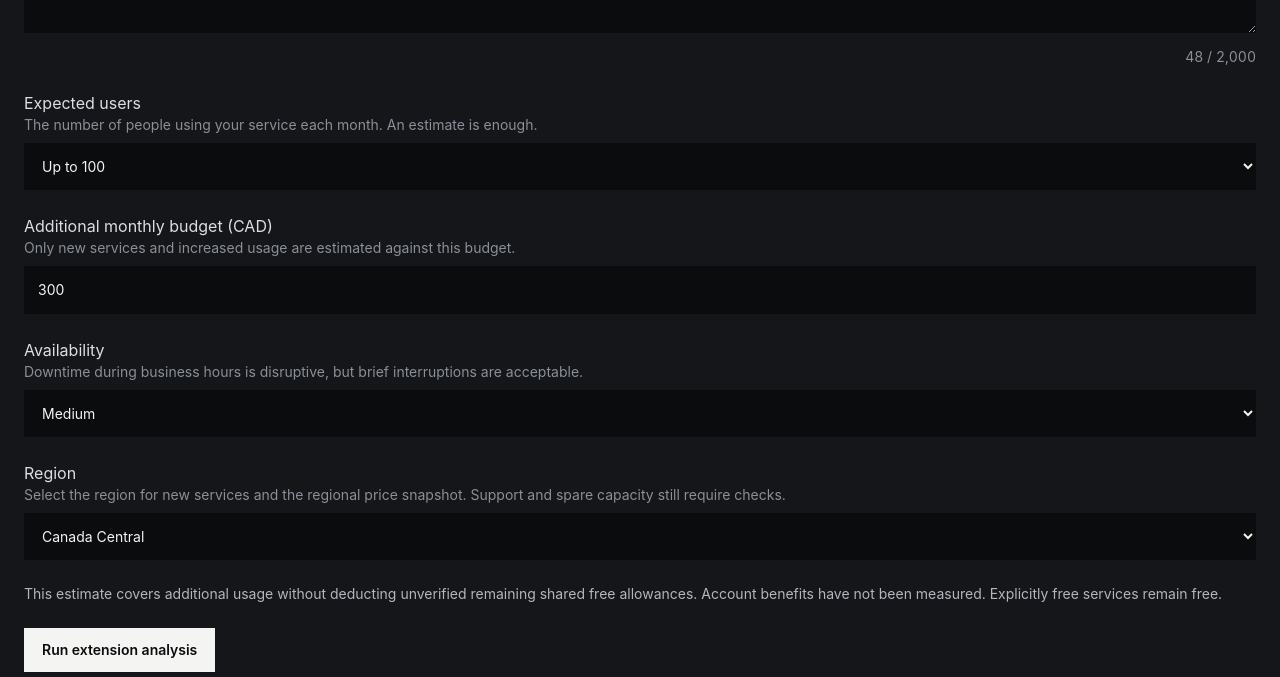
Test case: retains input and maps workspace-changed without server details
(page scrolled)
Click the button "Run extension analysis" at (120, 650), box x1=24 y1=628 x2=215 y2=672
(page scrolled)
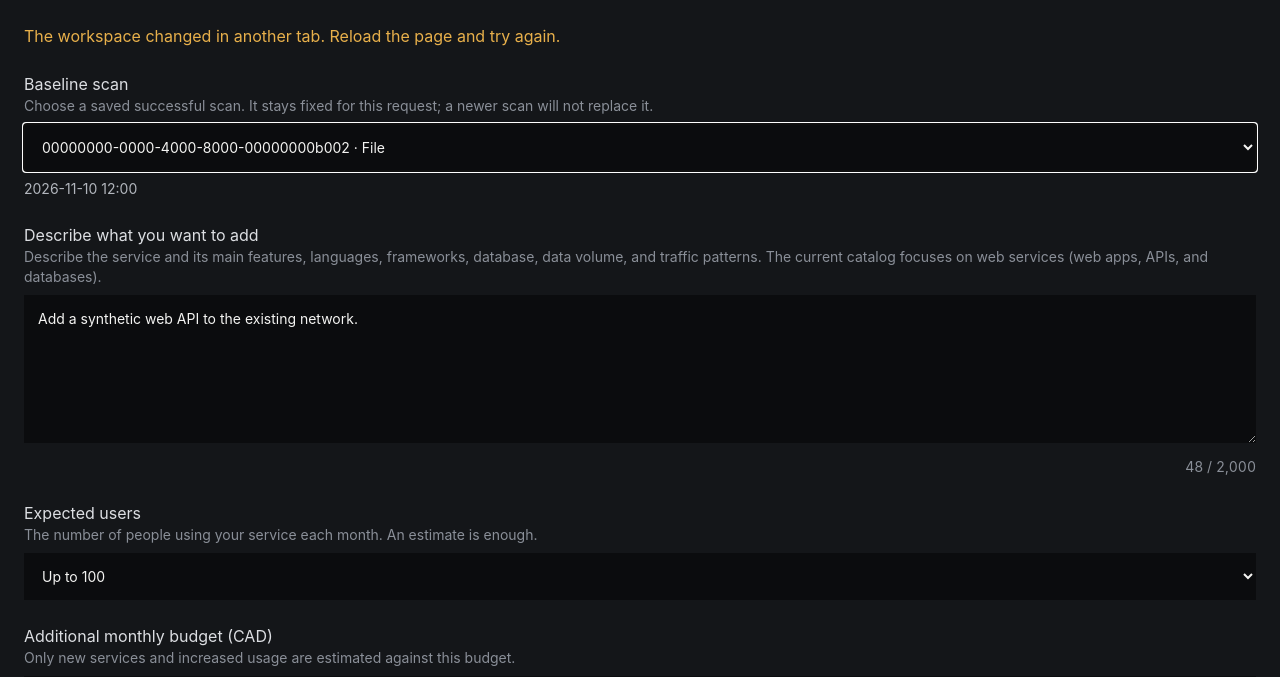
Expected: the text box holds "Add a synthetic web API to the existing network.", x1=24 y1=295 x2=1256 y2=443
Expected: the message "The workspace changed in another tab. Reload the page and try again." is shown, x1=24 y1=26 x2=560 y2=46
